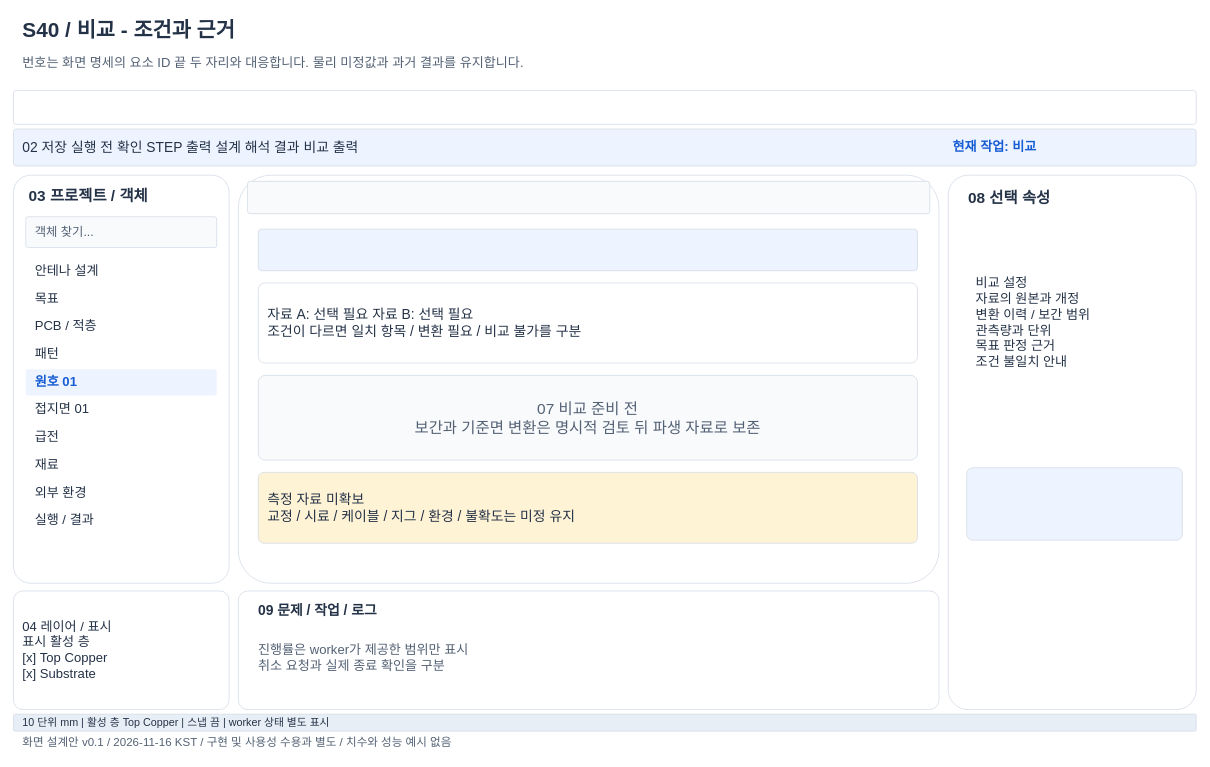
Image size: 1210x767. Some labels were removed from this diagram. The centre of each missing label's shape, as x and y in pixels:
01 TraceWave Studio / 안테나 설계 / 저장 필요: pixel 604 107
05 계산 결과 | 수렴 연구 | 측정 비교: pixel 588 197
06 비교 자료 추가 | 주파수 / 포트 / 기준면 / Z0 확인: pixel 587 249
현재 구현: 연구 보고서 일반 곡선 / 측정 비교: 5 / 7 / 11번 후속: pixel 1074 503
